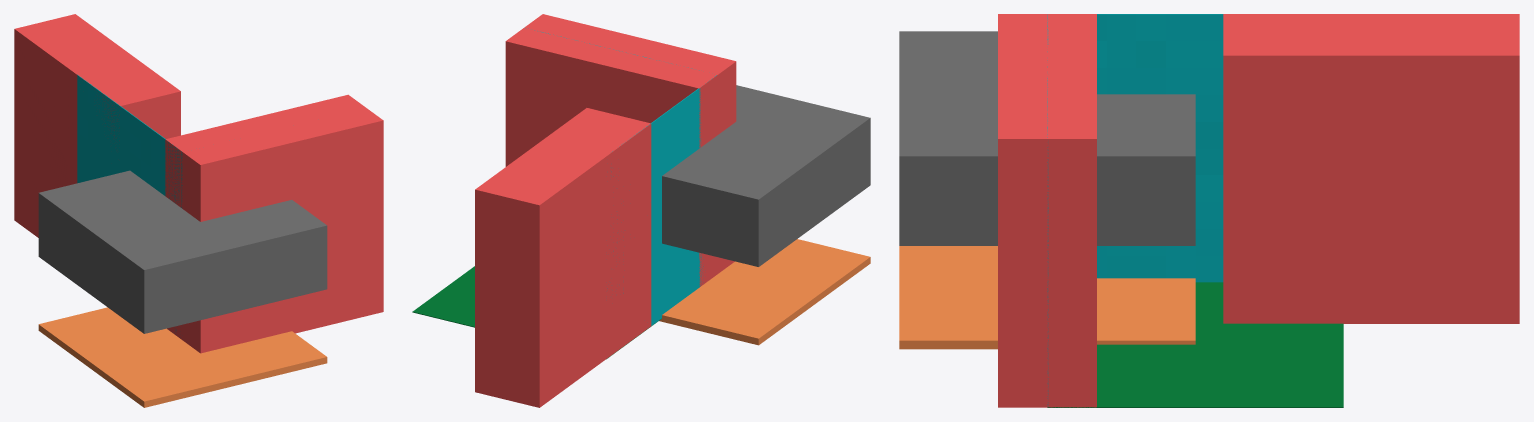
File: mbrick.gltf
3 views of the same model, side by side, from view 1: azimuth 30°, elevation 25°; view 2: azimuth 150°, elevation 25°; view 3: azimuth 270°, elevation 25° (orthographic). The views are drawn at different scales.
Parts seen in each view (by area): view 1: Cube.004, Cube.002, Cube.001, Cube, Cube.005; view 2: Cube.001, Cube.002, Cube.004, Cube, Cube.005, Cube.003; view 3: Cube.001, Cube.004, Cube.002, Cube.003, Cube.005, Cube.
Part boxes in pixels (bbox=[...]): Cube.004: bbox=[165, 94, 383, 353]; Cube.002: bbox=[38, 170, 327, 333]; Cube.001: bbox=[14, 14, 180, 237]; Cube: bbox=[38, 307, 327, 407]; Cube.005: bbox=[77, 74, 182, 330]; Cube.001: bbox=[475, 108, 651, 407]; Cube.002: bbox=[662, 85, 870, 266]; Cube.004: bbox=[505, 14, 736, 286]; Cube: bbox=[659, 239, 870, 345]; Cube.005: bbox=[607, 75, 716, 325]; Cube.003: bbox=[412, 266, 661, 359]; Cube.001: bbox=[1223, 14, 1519, 323]; Cube.004: bbox=[998, 14, 1096, 407]; Cube.002: bbox=[899, 31, 1195, 245]; Cube.003: bbox=[1047, 282, 1343, 407]; Cube.005: bbox=[1097, 14, 1223, 282]; Cube: bbox=[899, 246, 1195, 349].
Size of the model in its own units: 9 by 6.1 by 12.57.
8 materials, 8 textured.
